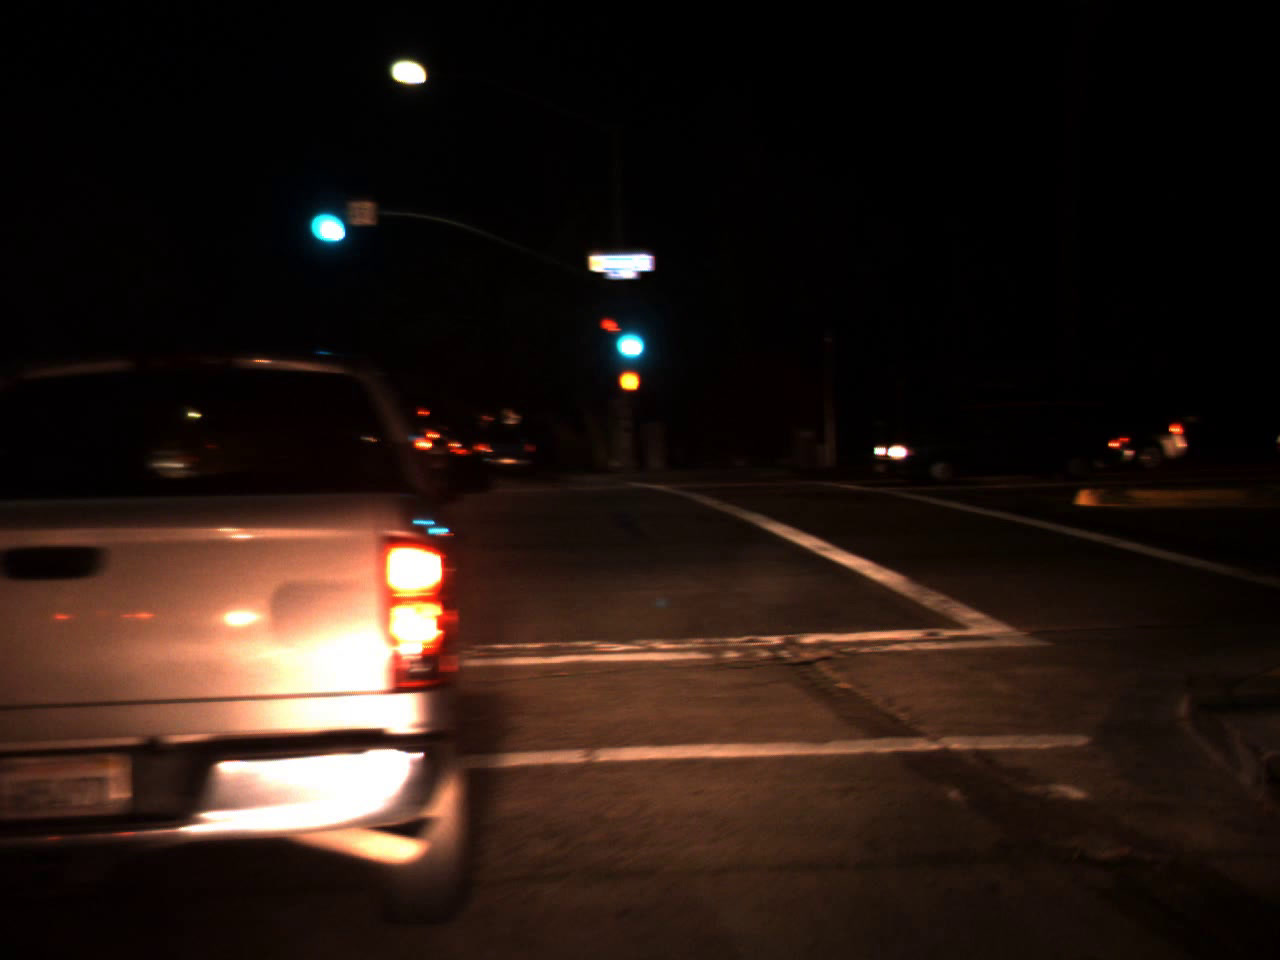go: (300, 177, 352, 255), (603, 302, 651, 368)
